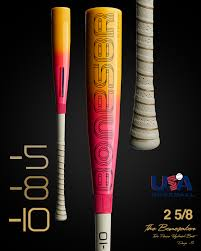baseball bat: (84, 6, 122, 251), (128, 1, 162, 151), (49, 6, 71, 222)
